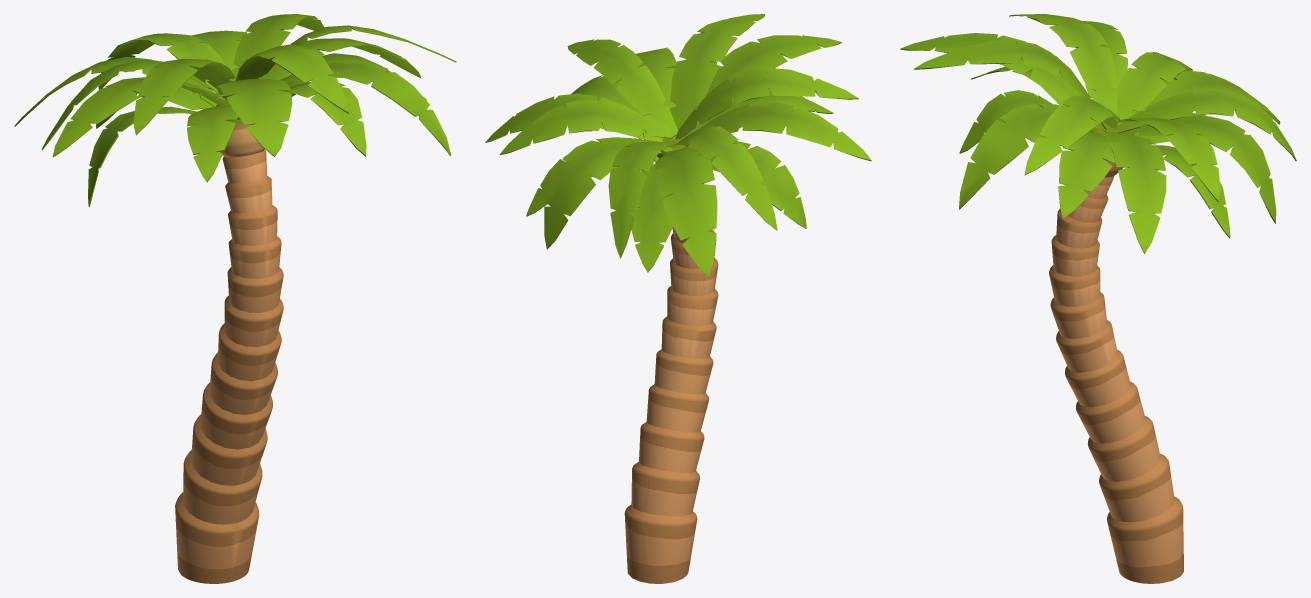
Rendered from Palm_01_LOD1.fbx.
The picture shows the model from 3 angles, left to right: view 1: azimuth 30°, elevation 25°; view 2: azimuth 150°, elevation 25°; view 3: azimuth 270°, elevation 25°; orthographic projection. The views are drawn at different scales.
Visible parts, largest first — view 1: Palm_01_LOD1_Mesh; view 2: Palm_01_LOD1_Mesh; view 3: Palm_01_LOD1_Mesh.
Boxes of the visible parts, left/top/right/bottom form: Palm_01_LOD1_Mesh: left=14, top=14, right=456, bottom=583; Palm_01_LOD1_Mesh: left=485, top=14, right=871, bottom=583; Palm_01_LOD1_Mesh: left=900, top=14, right=1296, bottom=583.
Bounding box in the file's own units: 8.49 × 11.33 × 7.78.
